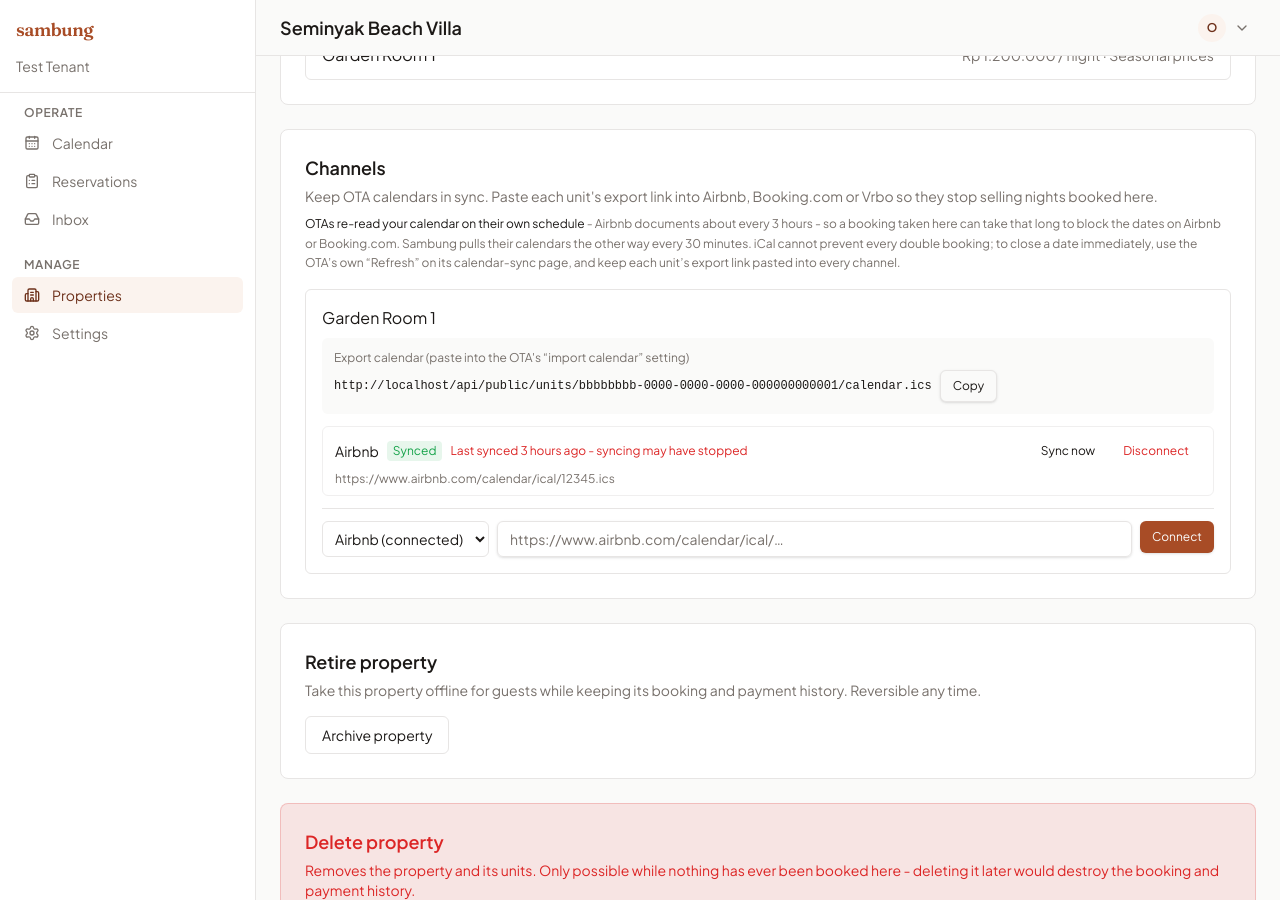
Scenario: channels section - sync honesty (REQ-AV-04) › re-reads the feed's age after a per-feed sync
(page scrolled)
Expected: the text "Last synced 3 hours ago - syncing may have stopped" is shown, [450,442,748,458]
Click the button "Sync now": {"x": 1068, "y": 450} [1029,434,1107,466]
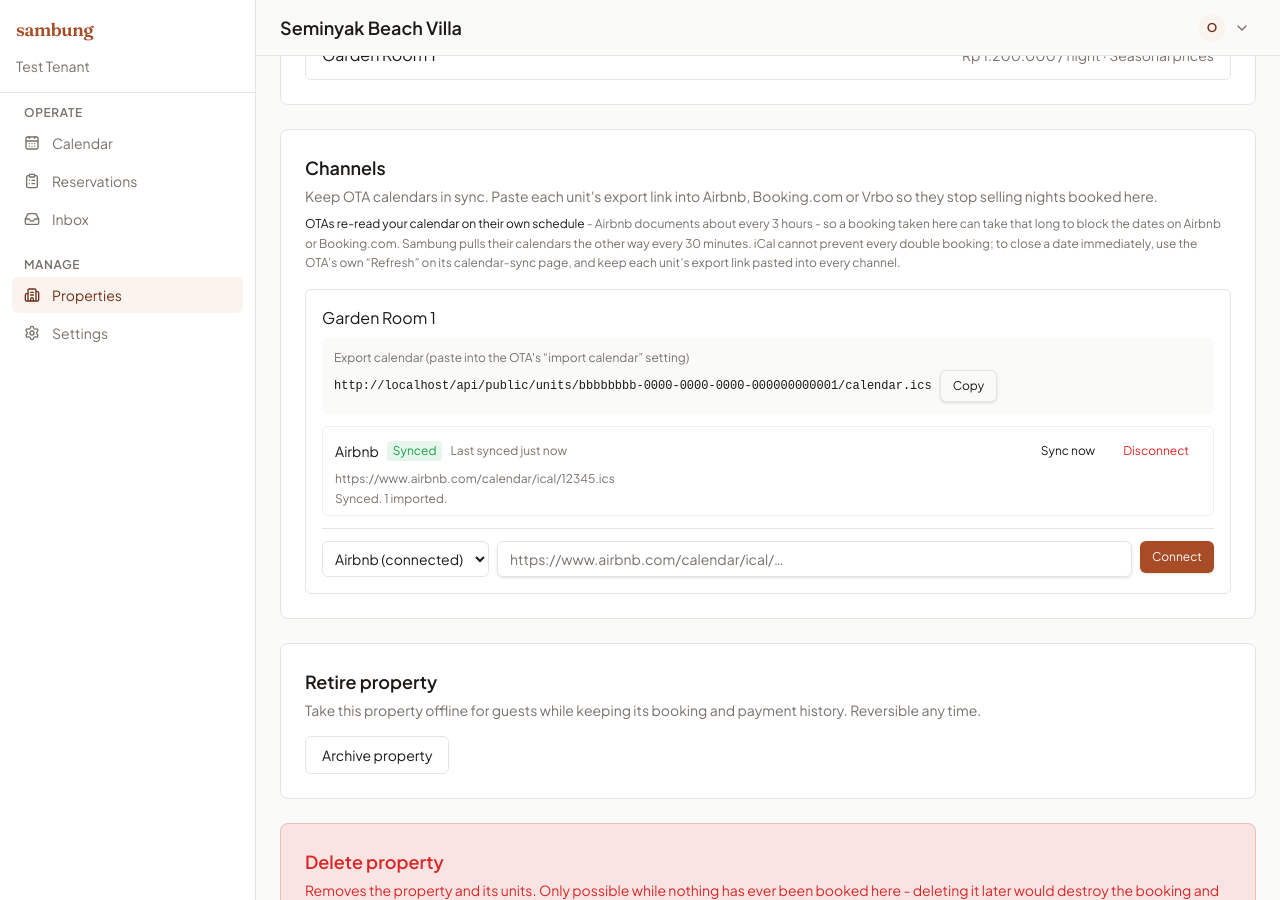
Result: the text "Last synced just now" is shown at [450,442,567,458]
Result: the text "may have stopped" is gone
